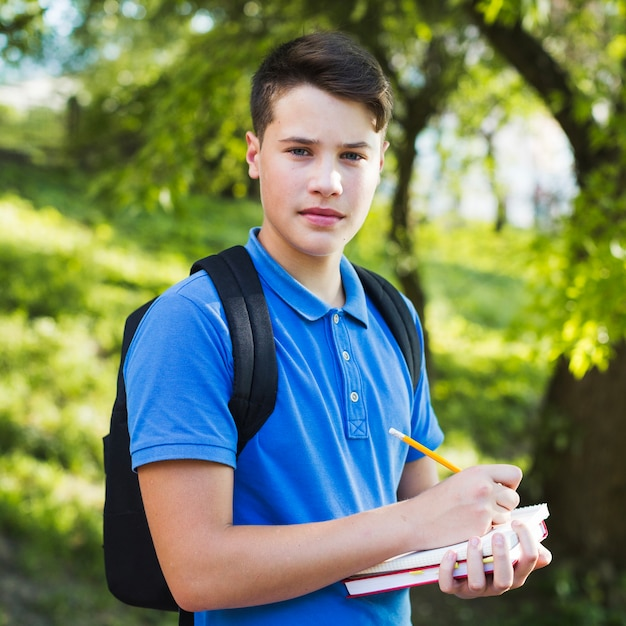teen: (251, 44, 395, 272)
